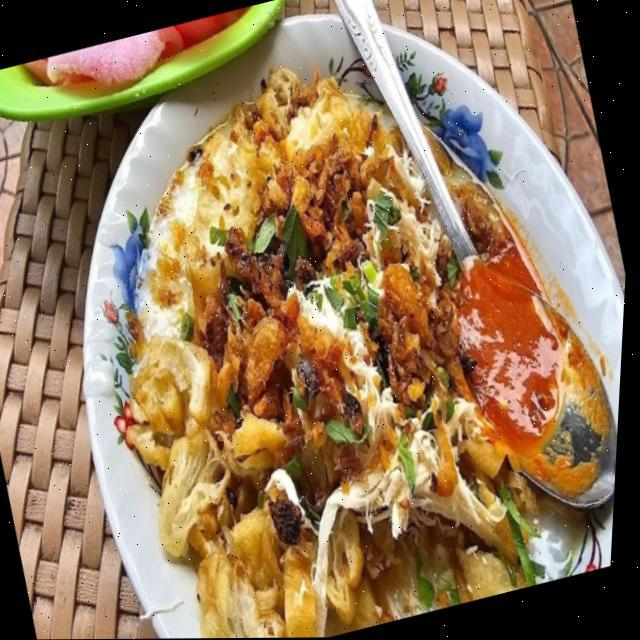bubur ayam: (36, 8, 622, 640)
mangkuk: (0, 0, 640, 640)
